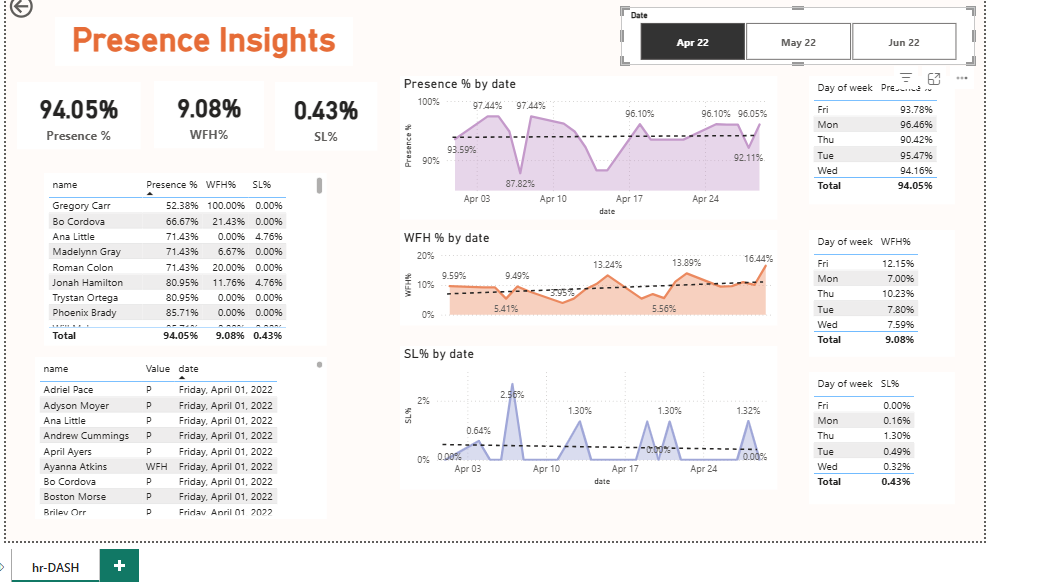

The dashboard page shown, as its layout file describes it:
{"tool":"powerbi","page":{"name":"hr-DASH","canvas":[1280,720],"ordinal":0},"visuals":[{"type":"card","fields":{"Values":["Measure Table.SL%"]},"box":[352.7,119,133.7,89.6],"z":0},{"type":"card","fields":{"Values":["Measure Table.Presence %"]},"box":[14.7,119,161.6,88.2],"z":1000},{"type":"slicer","fields":{"Values":["final data.month"]},"box":[805.2,20.6,462.9,76.4],"z":2000},{"type":"card","fields":{"Values":["Measure Table.WFH%"]},"box":[194,117.6,144,88.2],"z":3000},{"type":"tableEx","fields":{"Values":["final data.name","Measure Table.Presence %","Measure Table.WFH%","Measure Table.SL%"]},"box":[50,238,370.3,226.3],"z":4000},{"type":"textbox","box":[63.8,33.6,389.7,63.8],"z":5000},{"type":"actionButton","box":[0,0,100,40],"z":6000},{"type":"tableEx","fields":{"Values":["final data.name","final data.Value","final data.date"]},"box":[38.2,479,382,211.6],"z":7000},{"type":"areaChart","fields":{"Y":["Measure Table.Presence %"],"Category":["final data.date"]},"box":[515.8,111.7,493.7,188.1],"z":8000},{"type":"areaChart","title":"WFH % by date","fields":{"Category":["final data.date"],"Y":["Measure Table.WFH%"]},"box":[515.8,313,493.7,124.9],"z":9000},{"type":"areaChart","fields":{"Category":["final data.date"],"Y":["Measure Table.SL%"]},"box":[515.8,464.3,493.7,188.1],"z":10000},{"type":"tableEx","fields":{"Values":["final data.Day of week","Measure Table.Presence %"]},"box":[1050.6,111.7,191,167.5],"z":10001},{"type":"tableEx","fields":{"Values":["final data.Day of week","Measure Table.WFH%"]},"box":[1050.6,313,191,166],"z":10002},{"type":"tableEx","fields":{"Values":["final data.Day of week","Measure Table.SL%"]},"box":[1050.6,498.1,191,173.4],"z":10003}]}

Visuals, with their boxes on the page's 1280x720 design canvas (x1, y1, x2, y2). These are canvas units, not pixel positions in the 1042x582 screenshot, which may show the page scaled, cropped or inside an application window:
card - Measure Table.SL%: {"x1": 353, "y1": 119, "x2": 486, "y2": 209}
card - Measure Table.Presence %: {"x1": 15, "y1": 119, "x2": 176, "y2": 207}
slicer - final data.month: {"x1": 805, "y1": 21, "x2": 1268, "y2": 97}
card - Measure Table.WFH%: {"x1": 194, "y1": 118, "x2": 338, "y2": 206}
tableEx - final data.name x Measure Table.Presence %: {"x1": 50, "y1": 238, "x2": 420, "y2": 464}
textbox: {"x1": 64, "y1": 34, "x2": 454, "y2": 97}
actionButton: {"x1": 0, "y1": 0, "x2": 100, "y2": 40}
tableEx - final data.name x final data.Value: {"x1": 38, "y1": 479, "x2": 420, "y2": 691}
areaChart - Measure Table.Presence % x final data.date: {"x1": 516, "y1": 112, "x2": 1010, "y2": 300}
"WFH % by date" areaChart: {"x1": 516, "y1": 313, "x2": 1010, "y2": 438}
areaChart - final data.date x Measure Table.SL%: {"x1": 516, "y1": 464, "x2": 1010, "y2": 652}
tableEx - final data.Day of week x Measure Table.Presence %: {"x1": 1051, "y1": 112, "x2": 1242, "y2": 279}
tableEx - final data.Day of week x Measure Table.WFH%: {"x1": 1051, "y1": 313, "x2": 1242, "y2": 479}
tableEx - final data.Day of week x Measure Table.SL%: {"x1": 1051, "y1": 498, "x2": 1242, "y2": 672}
